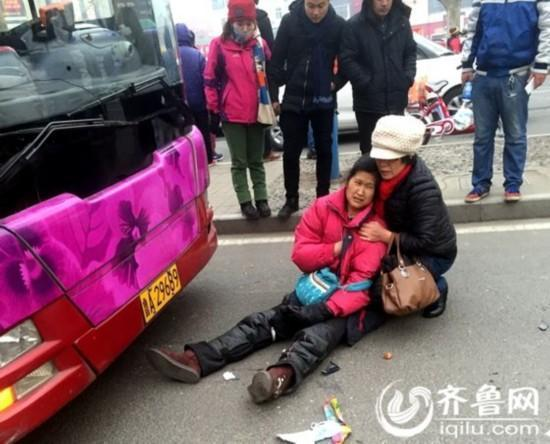Fall-Detected: (131, 158, 409, 410)
